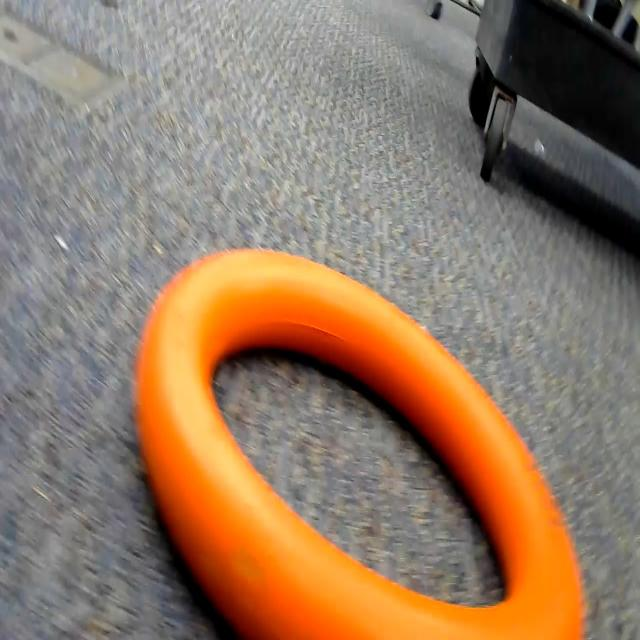note: (127, 228, 603, 640)
